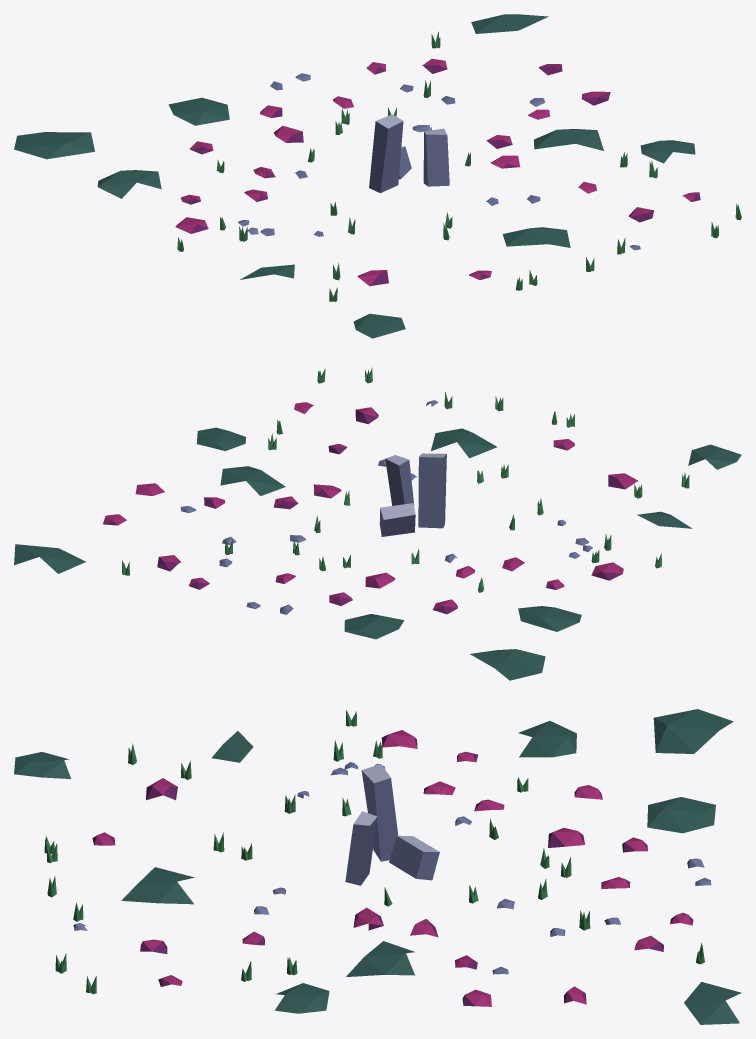
The model's file is decor0.glb.
The picture shows the model from 3 angles, top to bottom: view 1: azimuth 30°, elevation 25°; view 2: azimuth 150°, elevation 25°; view 3: azimuth 270°, elevation 25°; orthographic projection. The views are drawn at different scales.
Visible parts, largest first — view 1: SA; view 2: SA; view 3: SA.
Boxes of the visible parts, left/top/right/bottom form: SA: left=14, top=14, right=741, bottom=338; SA: left=14, top=367, right=741, bottom=680; SA: left=14, top=709, right=741, bottom=1024.
Size of the model in its own units: 12.49 by 1.68 by 12.1.
